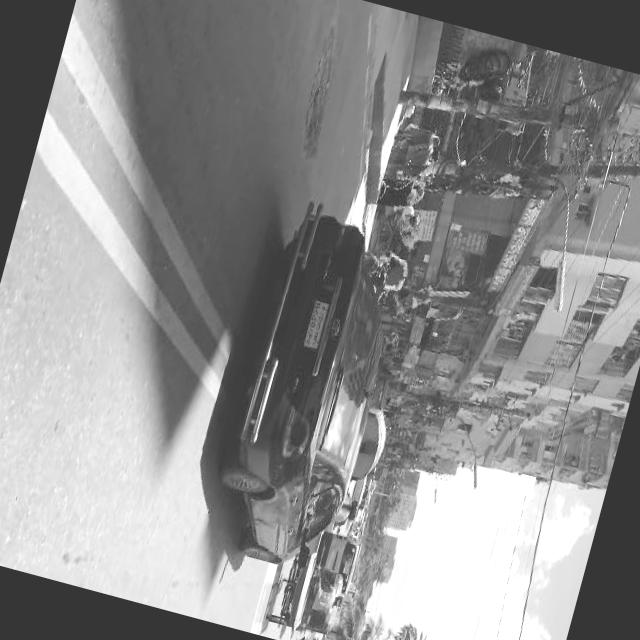car: (195, 196, 418, 582)
motorcycle: (260, 544, 320, 638), (347, 404, 394, 490), (297, 565, 347, 640)
truck: (308, 531, 362, 601)
